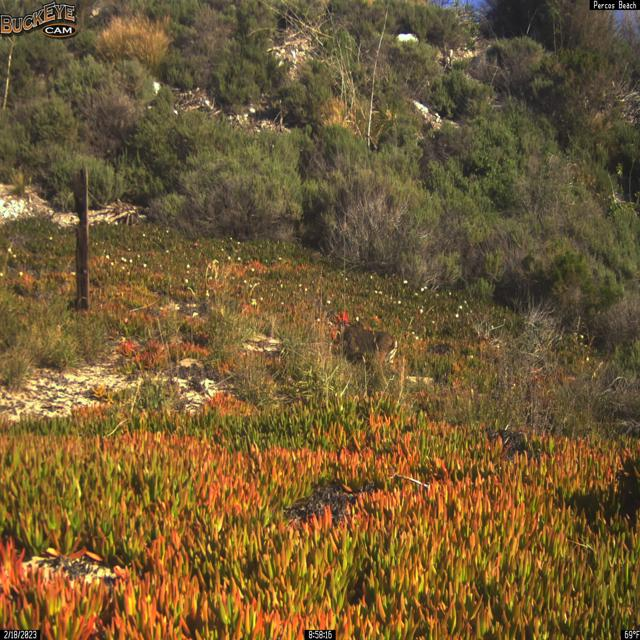bobcat: (328, 311, 399, 372)
